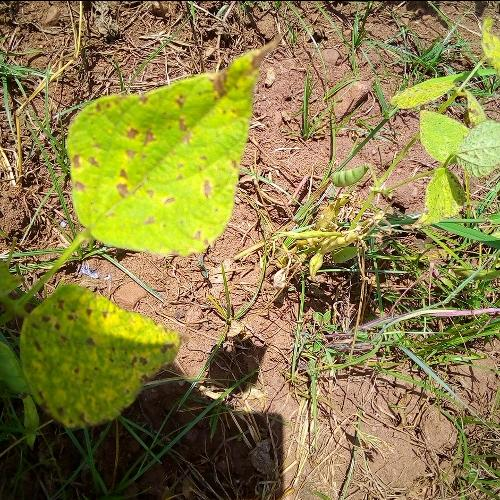mozaik: (68, 56, 240, 291), (22, 282, 169, 459)
